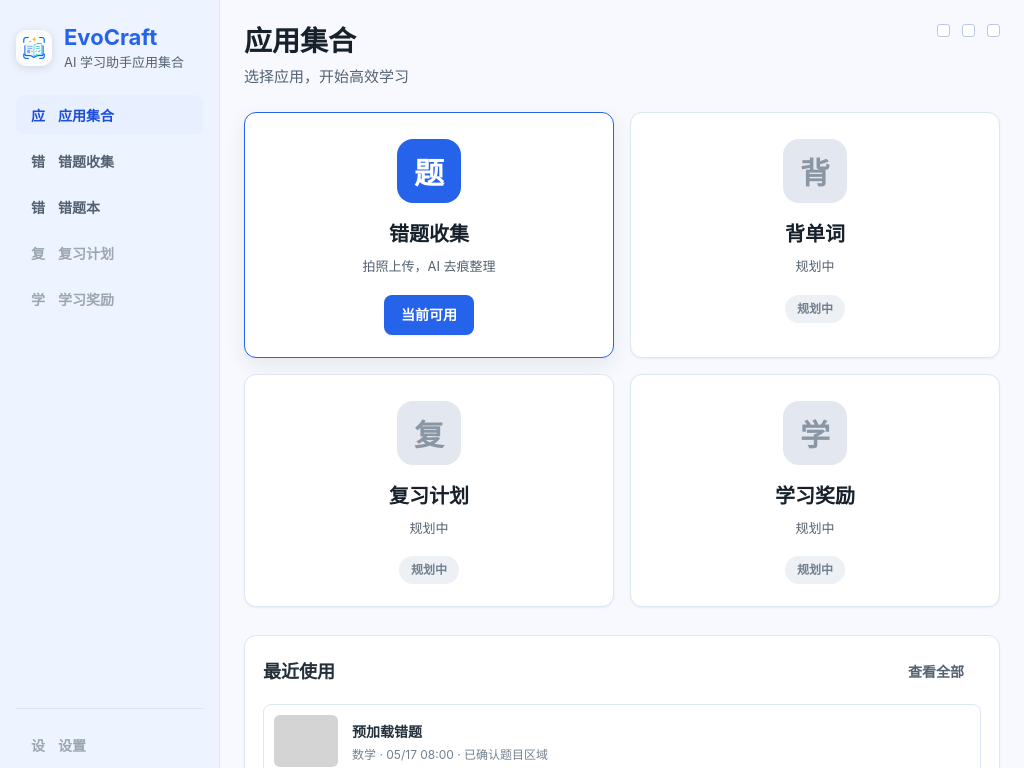
Test: App › loads preexisting records from localStorage after startup
Step 1. Click the button "错 错题本" → (110, 207), box [16,187,203,227]
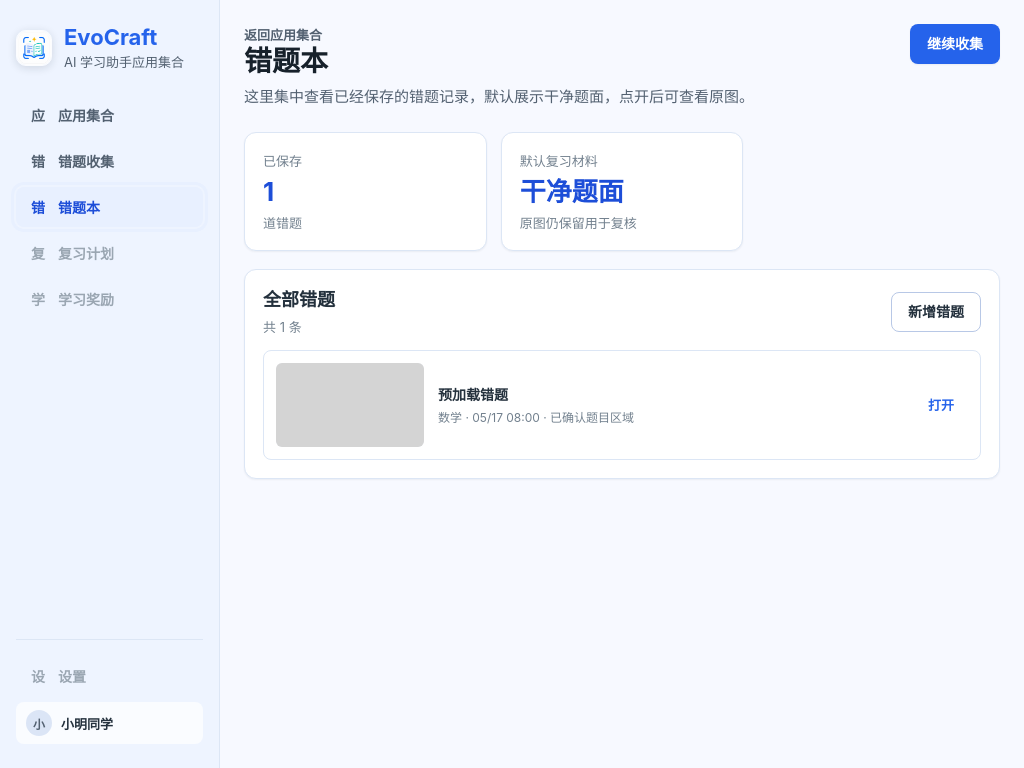
Check: the text "共 1 条" is shown, box [263,319,302,335]
Check: the button "预加载错题 数学 · 05/17 08:00 · 已确认题目区域 打开" is shown, box [276,363,954,447]
